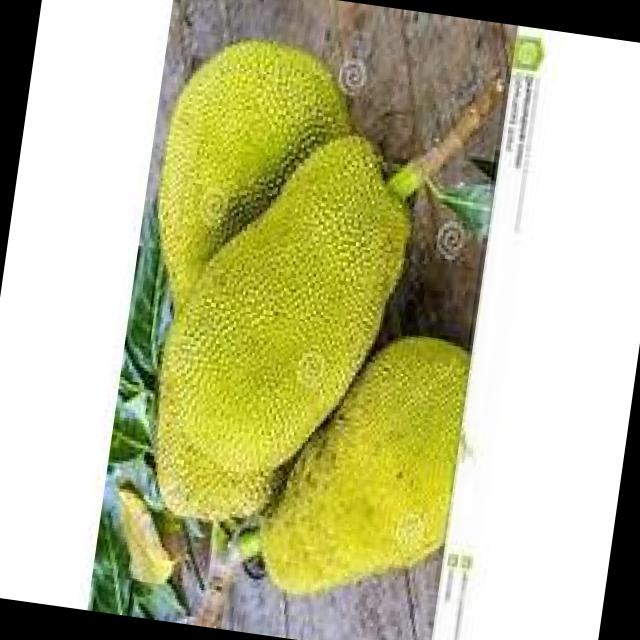Fruit: (113, 88, 450, 541), (217, 281, 480, 640)
